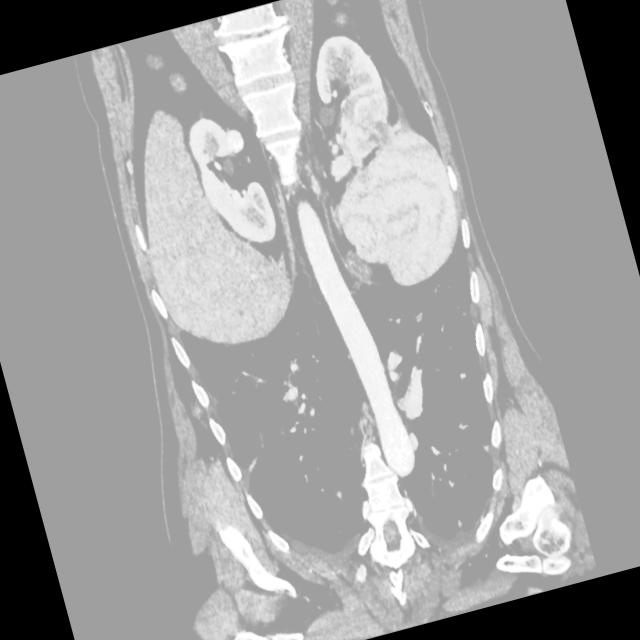TUMOR: (34, 0, 515, 326)
